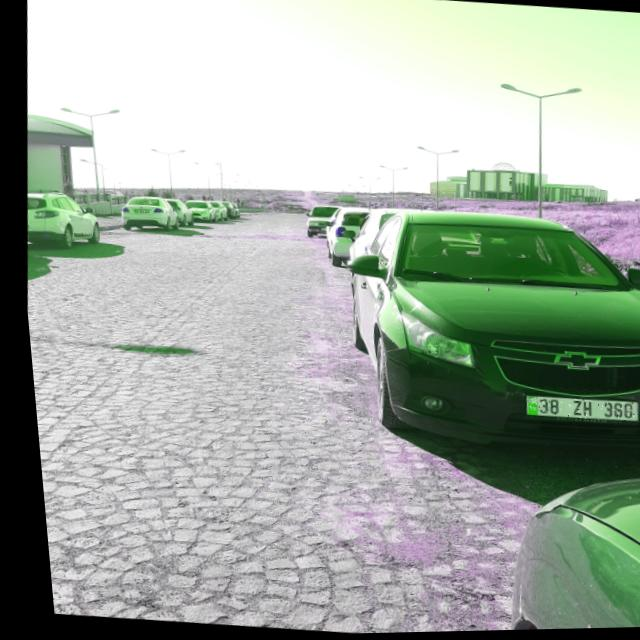license_plate: (517, 396, 632, 426)
